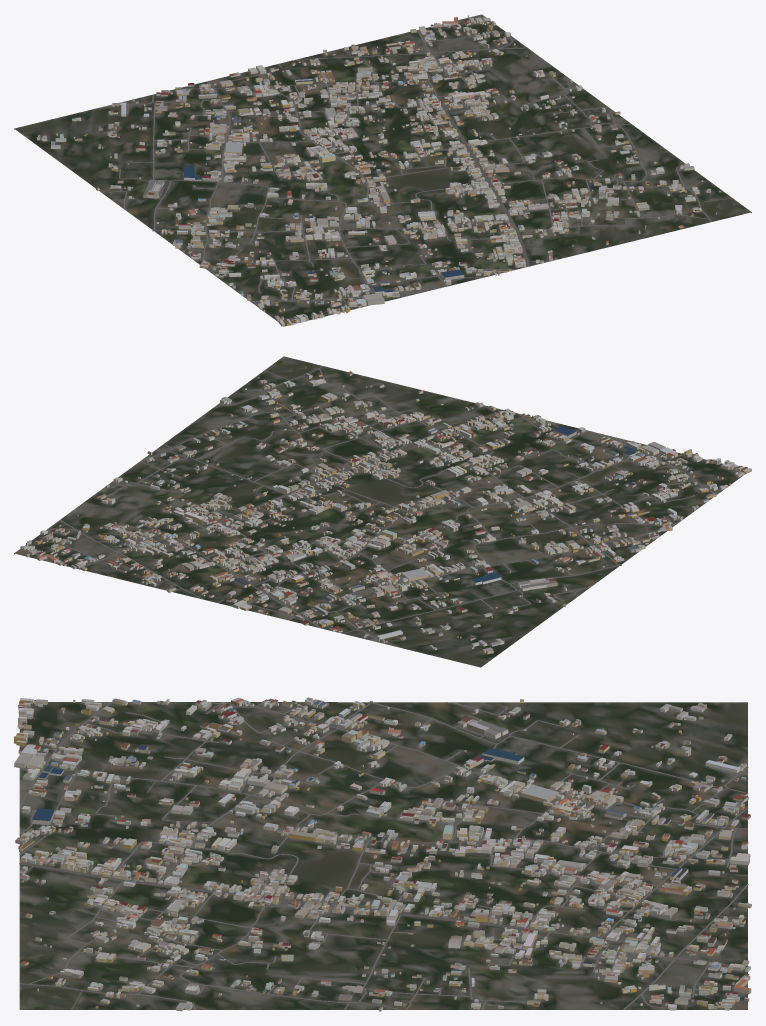
The picture shows the model from 3 angles, top to bottom: view 1: azimuth 30°, elevation 25°; view 2: azimuth 150°, elevation 25°; view 3: azimuth 270°, elevation 25°; orthographic projection. The views are drawn at different scales.
Visible parts, largest first — view 1: ground, buildings, roads; view 2: ground, buildings, roads; view 3: ground, buildings, roads.
Boxes of the visible parts, bbox=[...] form: ground: bbox=[14, 14, 751, 326]; buildings: bbox=[37, 15, 720, 326]; roads: bbox=[110, 30, 732, 309]; ground: bbox=[14, 356, 744, 667]; buildings: bbox=[20, 366, 751, 654]; roads: bbox=[48, 366, 716, 643]; ground: bbox=[19, 702, 747, 1009]; buildings: bbox=[14, 697, 751, 1011]; roads: bbox=[19, 701, 748, 1009].
Bounding box in the file's own units: 1417 × 17.09 × 1419.
